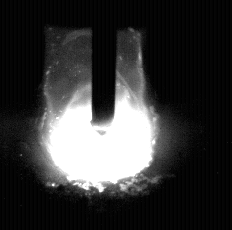arame: (93, 0, 116, 135)
poca: (47, 0, 154, 230)
